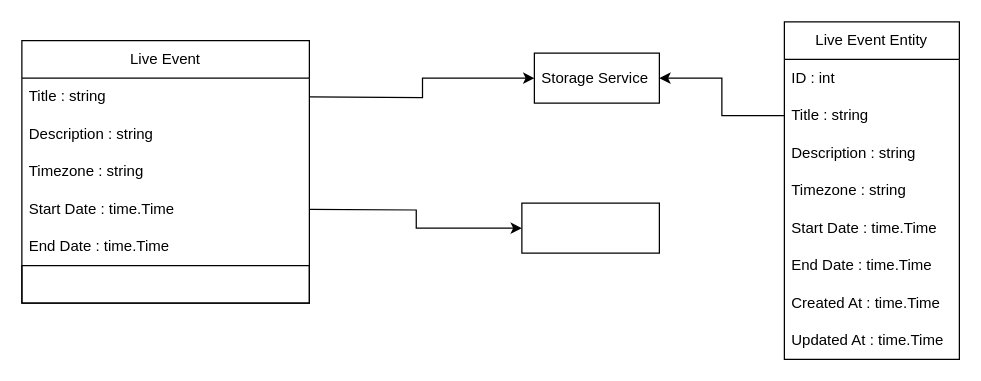
Some shapes in this 981 by 381 pixel diagram are drawn without their labels. Each missing label, with the centre of its shape:
Analytics Service: (x=590, y=227)
CalculateDuration() : time.Duration: (x=165, y=283)
